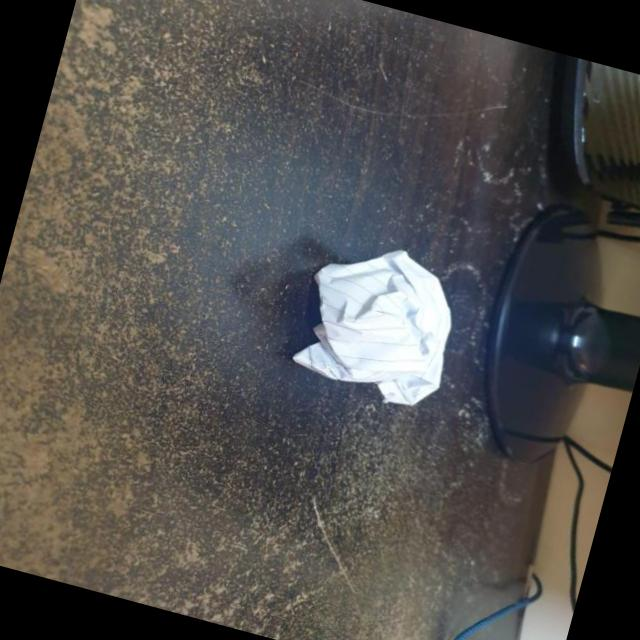cardboard paper: (294, 249, 451, 403)
